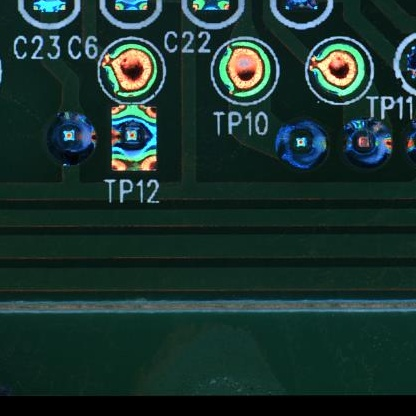spot: (110, 104, 160, 174), (310, 42, 367, 99), (42, 108, 96, 166), (218, 40, 271, 99), (273, 118, 328, 172), (105, 42, 158, 97), (342, 118, 393, 169)
